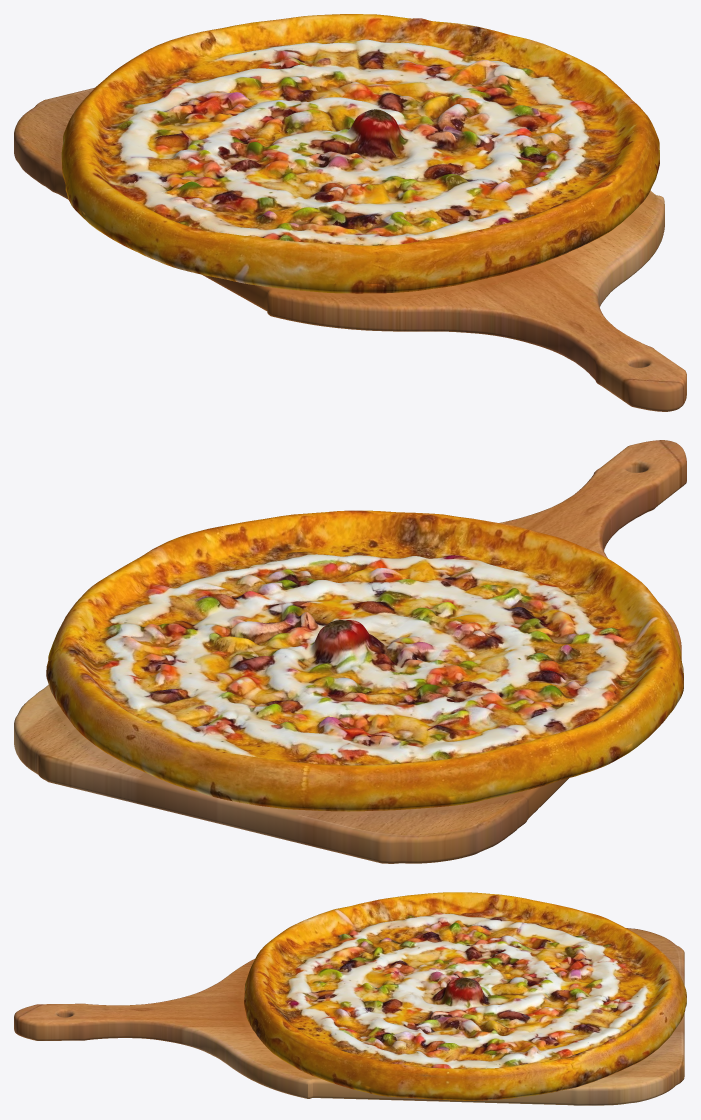
Rendered from pizza-enchilada.glb.
3 renders of one model, top to bottom at view 1: azimuth 30°, elevation 25°; view 2: azimuth 150°, elevation 25°; view 3: azimuth 270°, elevation 25°, orthographic. The views are drawn at different scales.
Visible parts, largest first — view 1: pizza-enchilada, peel.008; view 2: pizza-enchilada, peel.008; view 3: pizza-enchilada, peel.008.
Part boxes in pixels (left/top/right/bottom): pizza-enchilada: left=61, top=14, right=659, bottom=293; peel.008: left=14, top=87, right=686, bottom=411; pizza-enchilada: left=46, top=510, right=683, bottom=811; peel.008: left=14, top=440, right=686, bottom=863; pizza-enchilada: left=244, top=892, right=686, bottom=1100; peel.008: left=14, top=928, right=684, bottom=1105.
Size of the model in its own units: 0.3019 by 0.0412 by 0.4561.
2 materials, 2 textured.
